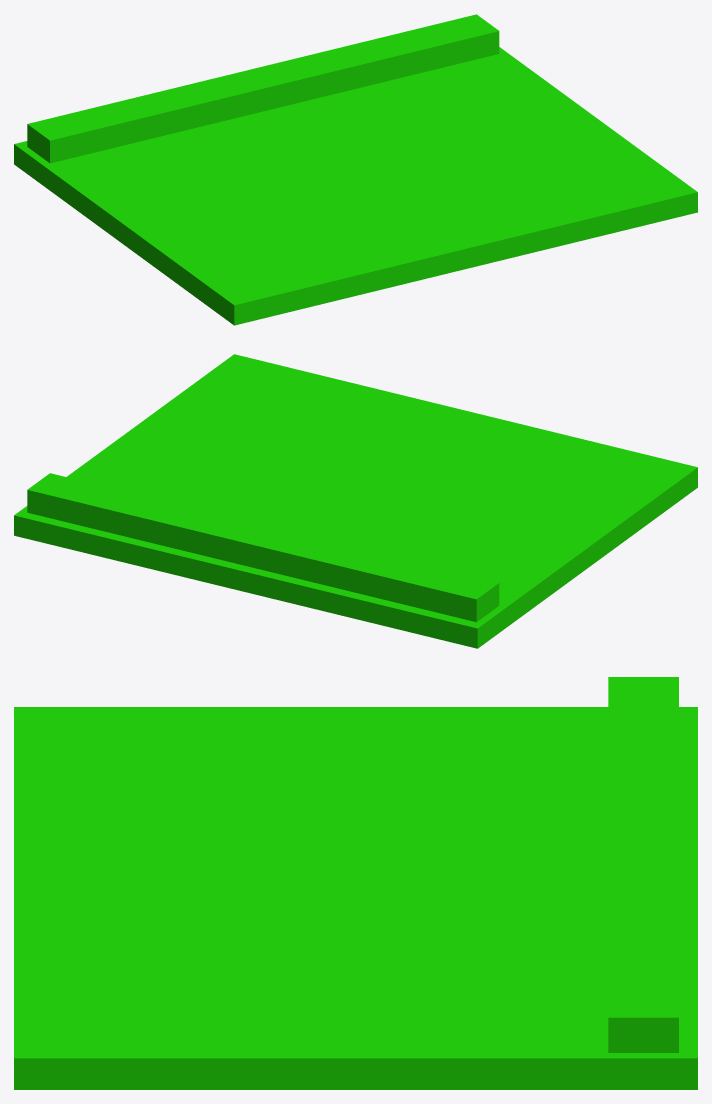
Rendered from SM_Door_Collider.fbx.
3 renders of one model, top to bottom at view 1: azimuth 30°, elevation 25°; view 2: azimuth 150°, elevation 25°; view 3: azimuth 270°, elevation 25°, orthographic. The views are drawn at different scales.
Parts seen in each view (by area): view 1: SM_Door_Collider; view 2: SM_Door_Collider; view 3: SM_Door_Collider.
Part boxes in pixels (<box>): SM_Door_Collider: <box>14,14,697,325</box>; SM_Door_Collider: <box>14,354,697,648</box>; SM_Door_Collider: <box>14,677,697,1089</box>.
Bounding box in the file's own units: 81.32 × 7.23 × 66.91.
